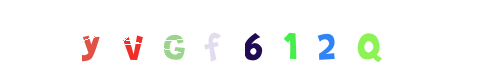1: (252, 0, 332, 80)
2: (285, 0, 365, 80)
6: (212, 0, 292, 80)
F: (199, 0, 279, 80)
G: (190, 0, 270, 80)
Q: (326, 0, 406, 80)
V: (158, 0, 238, 80)
Y: (71, 0, 151, 80)
